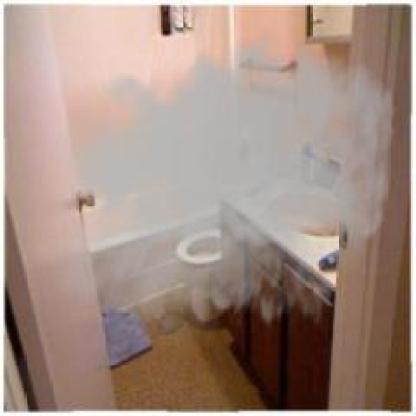Smoke: (41, 17, 398, 366)
